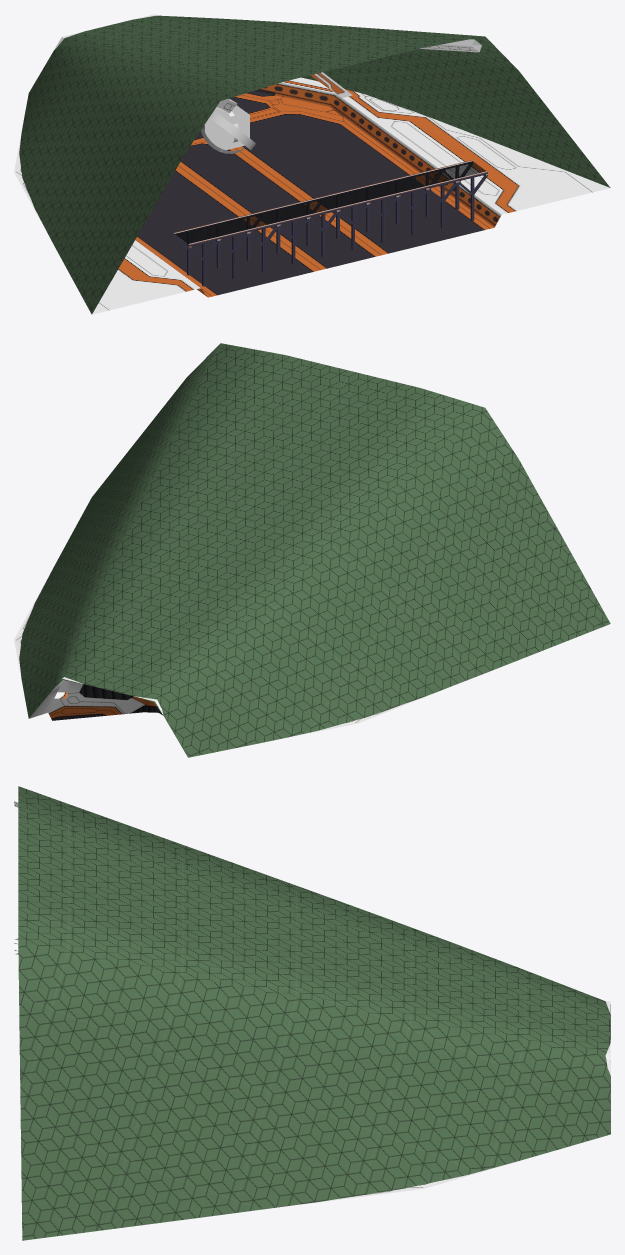
The model's file is space station.glb.
3 renders of one model, top to bottom at view 1: azimuth 30°, elevation 25°; view 2: azimuth 150°, elevation 25°; view 3: azimuth 270°, elevation 25°, orthographic. The views are drawn at different scales.
Parts seen in each view (by area): view 1: glass, station, corridor, reactor, ring_3; view 2: glass, station; view 3: glass, station.
Part boxes in pixels (box(x1,y1,x2,y2)): glass: box(19, 15, 610, 314); station: box(14, 14, 610, 314); corridor: box(174, 160, 487, 286); reactor: box(204, 105, 249, 151); ring_3: box(209, 110, 255, 150); glass: box(19, 343, 610, 757); station: box(14, 498, 606, 743); glass: box(18, 786, 610, 1240); station: box(14, 796, 610, 1240).
Size of the model in its own units: 72.51 by 27.06 by 59.56.
4 materials, 3 textured.
